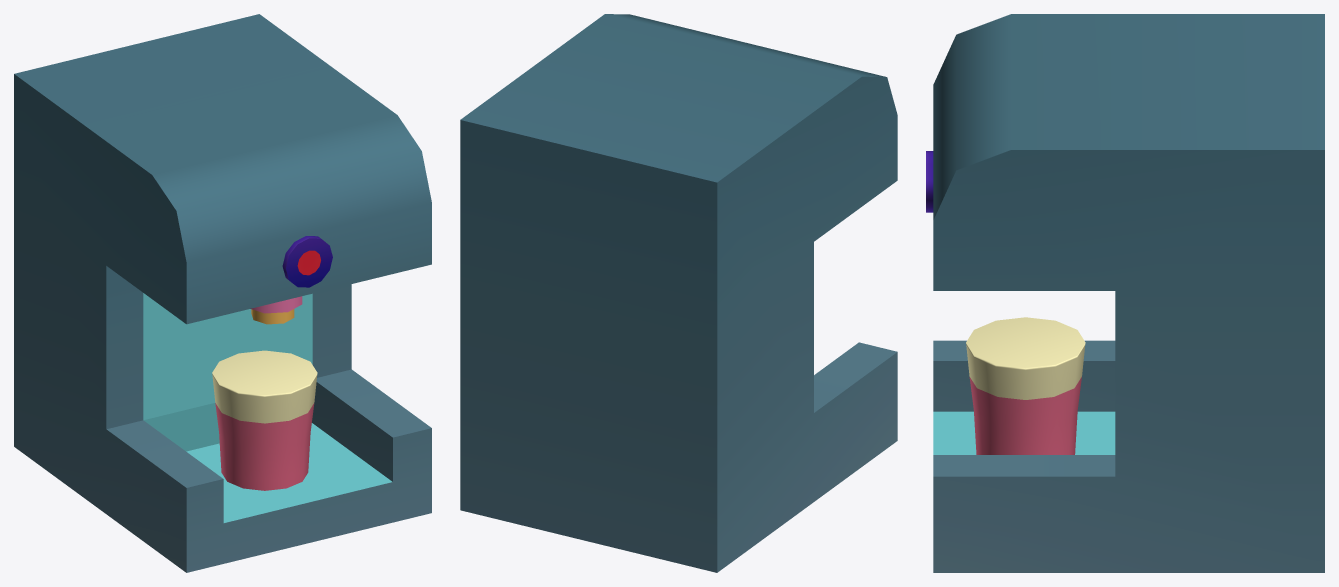
File: Drink_Machine_lv2.fbx
3 renders of one model, left to right at view 1: azimuth 30°, elevation 25°; view 2: azimuth 150°, elevation 25°; view 3: azimuth 270°, elevation 25°, orthographic. The views are drawn at different scales.
Parts seen in each view (by area): view 1: Drink_Machine_lv2; view 2: Drink_Machine_lv2; view 3: Drink_Machine_lv2.
Boxes of the visible parts, box(x1,y1,x2,y2) form: Drink_Machine_lv2: box(14, 14, 431, 572); Drink_Machine_lv2: box(460, 14, 897, 572); Drink_Machine_lv2: box(926, 14, 1324, 572).
Size of the model in its own units: 81.64 by 119 by 101.
1 material, 1 textured.
